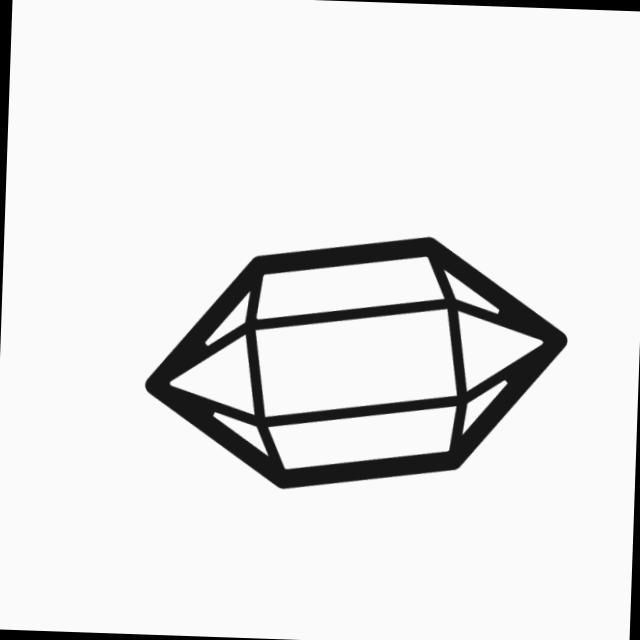crystal: (135, 219, 578, 507)
